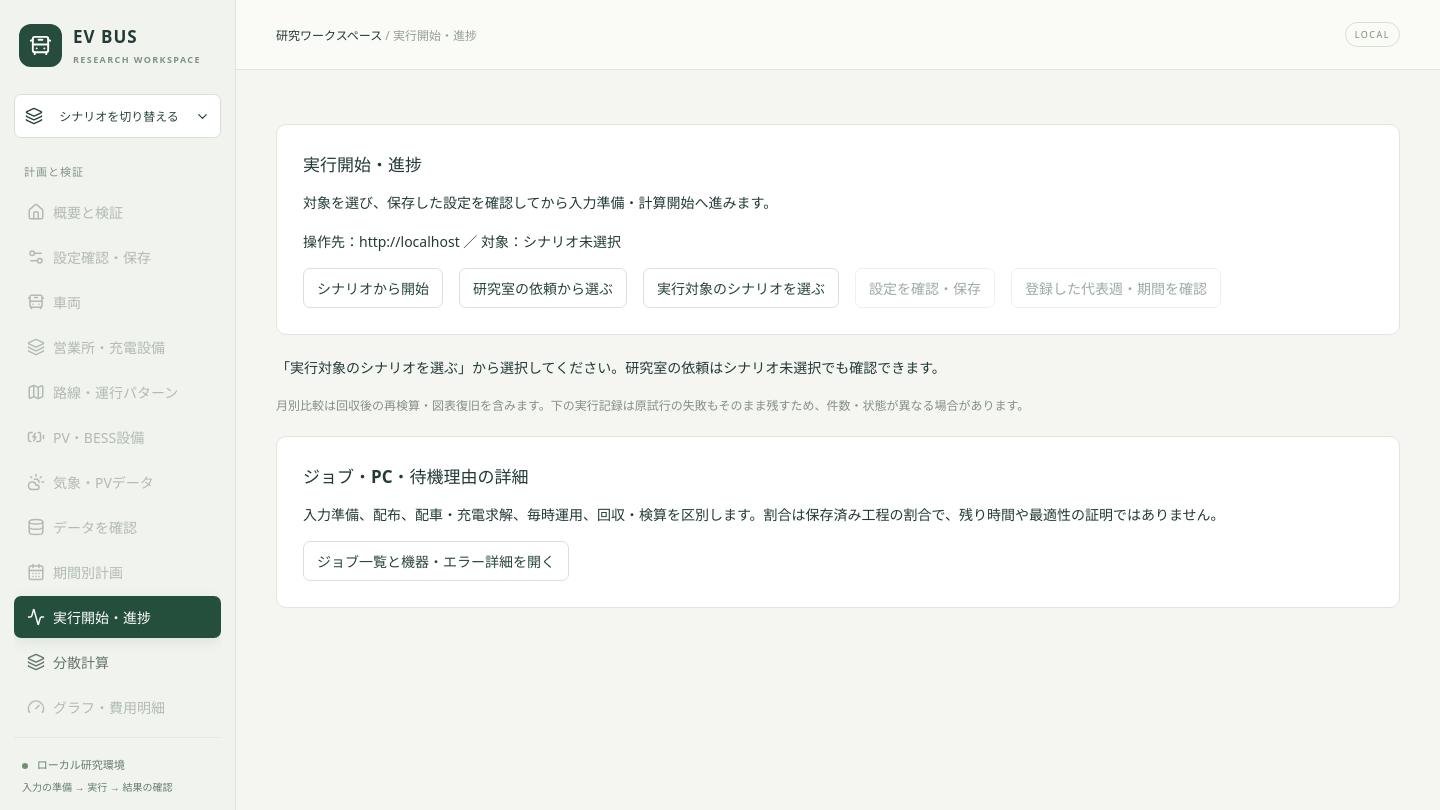
keeps the execution entry accessible without selecting a scenario
The image size is (1440, 810).
Check: the heading "実行開始・進捗" is shown, box [303,153,422,176]
Check: the button "実行開始・進捗" is enabled, box [14,596,221,638]
Click the button "研究室の依頼から選ぶ" at (543, 288), box [459,268,627,308]
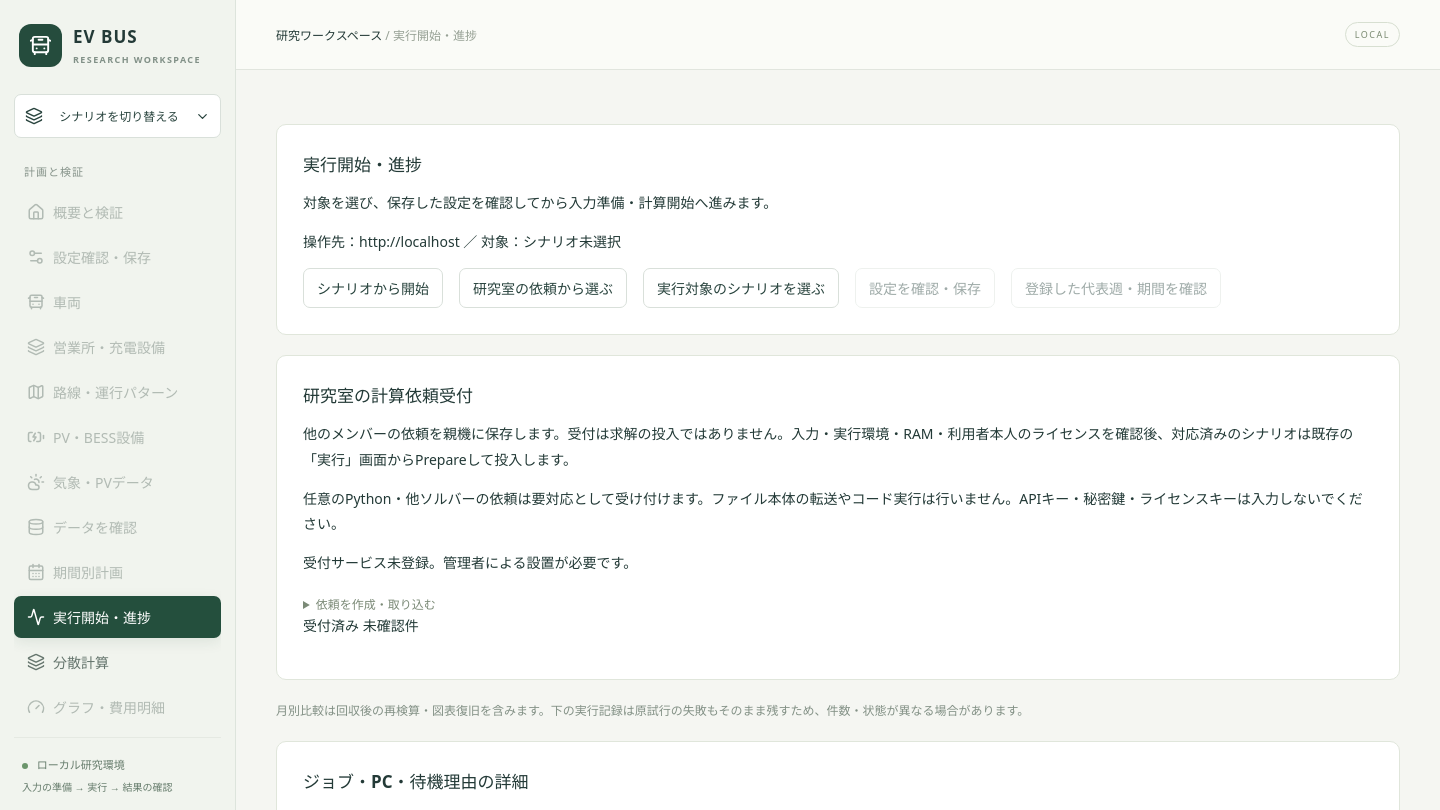
Check: the heading "研究室の計算依頼受付" is shown, box [303,384,473,407]
